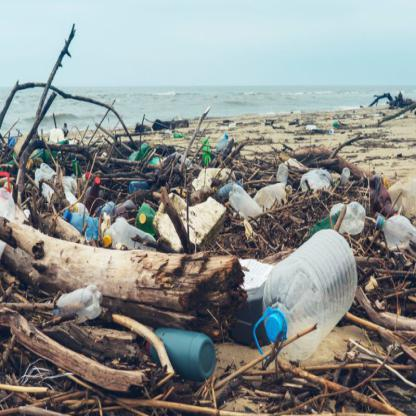Plastic: (260, 225, 360, 360), (376, 212, 415, 250), (227, 181, 260, 219), (65, 207, 102, 240)
